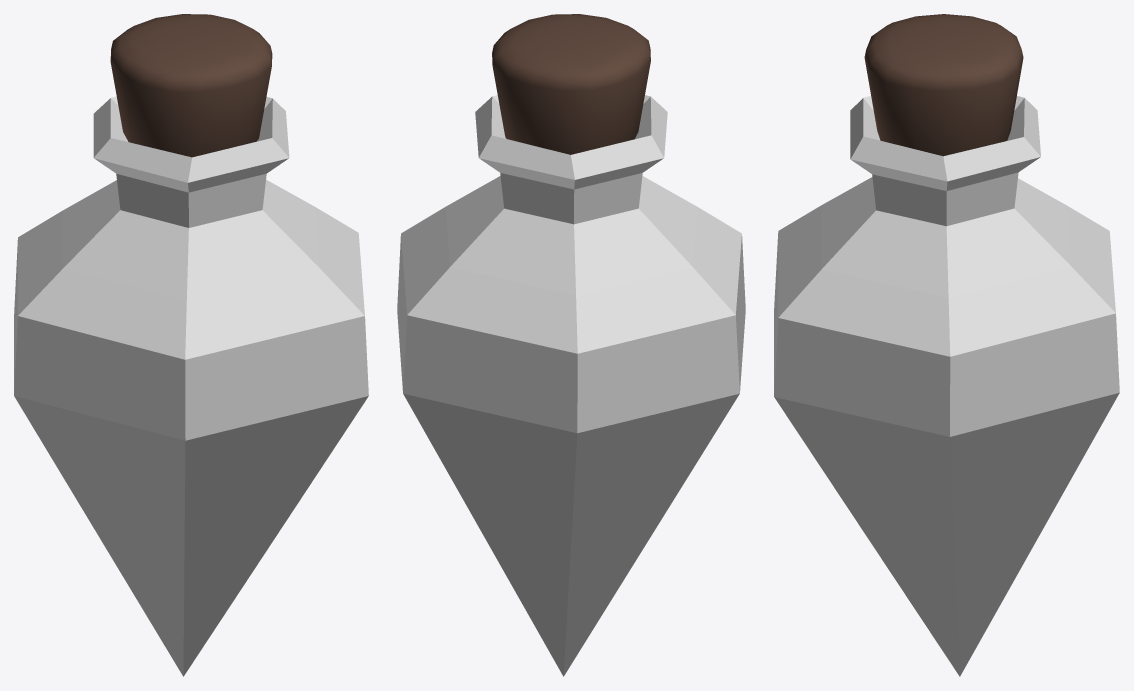
File: potion10_filled.glb
The picture shows the model from 3 angles, left to right: view 1: azimuth 30°, elevation 25°; view 2: azimuth 150°, elevation 25°; view 3: azimuth 270°, elevation 25°; orthographic projection.
Parts seen in each view (by area): view 1: Potion10_Filled; view 2: Potion10_Filled; view 3: Potion10_Filled.
Boxes of the visible parts, box(x1,y1,x2,y2) form: Potion10_Filled: box(14, 14, 368, 676); Potion10_Filled: box(397, 14, 745, 676); Potion10_Filled: box(774, 14, 1119, 676).
Size of the model in its own units: 0.4379 by 0.7742 by 0.3792.
